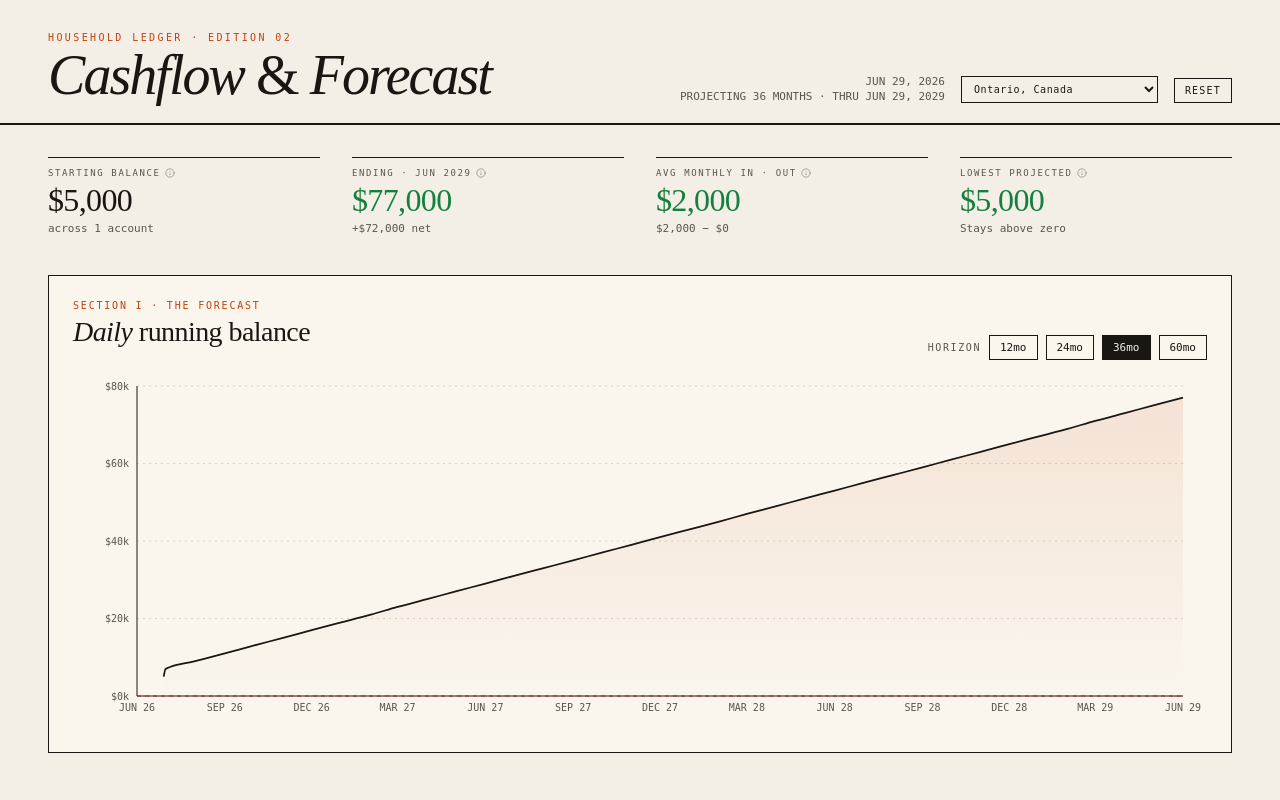
Test: Interactive Tooltips UI › displays explanations when hovering over metric labels
// Hover to reveal tooltip
Hover over the text "Starting Balance".
mouse_move(111, 173)  # box [48,168,175,178]
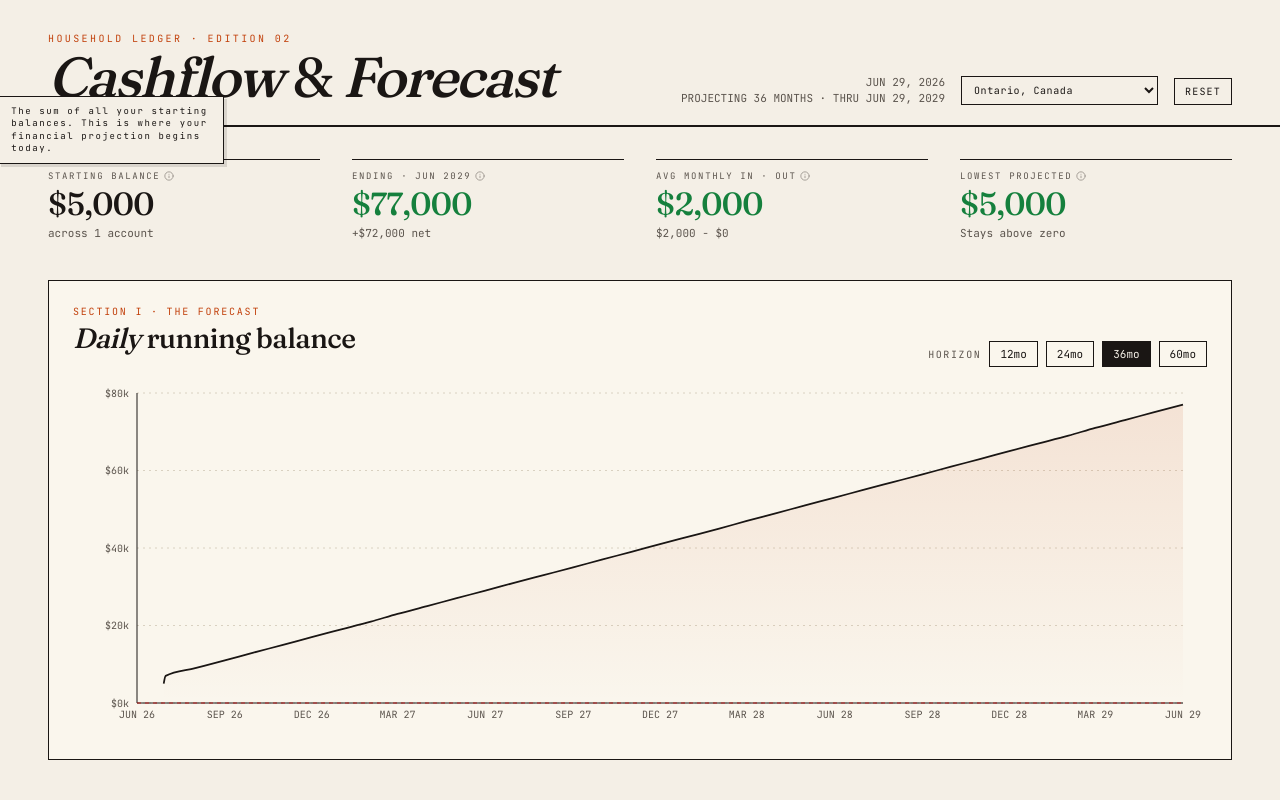
Expected: the text "The sum of all your starting balances" is shown, [11,105,208,154]
// Mouse leave hides it
Move the pointer off the text "Starting Balance", box [48,170,174,182]
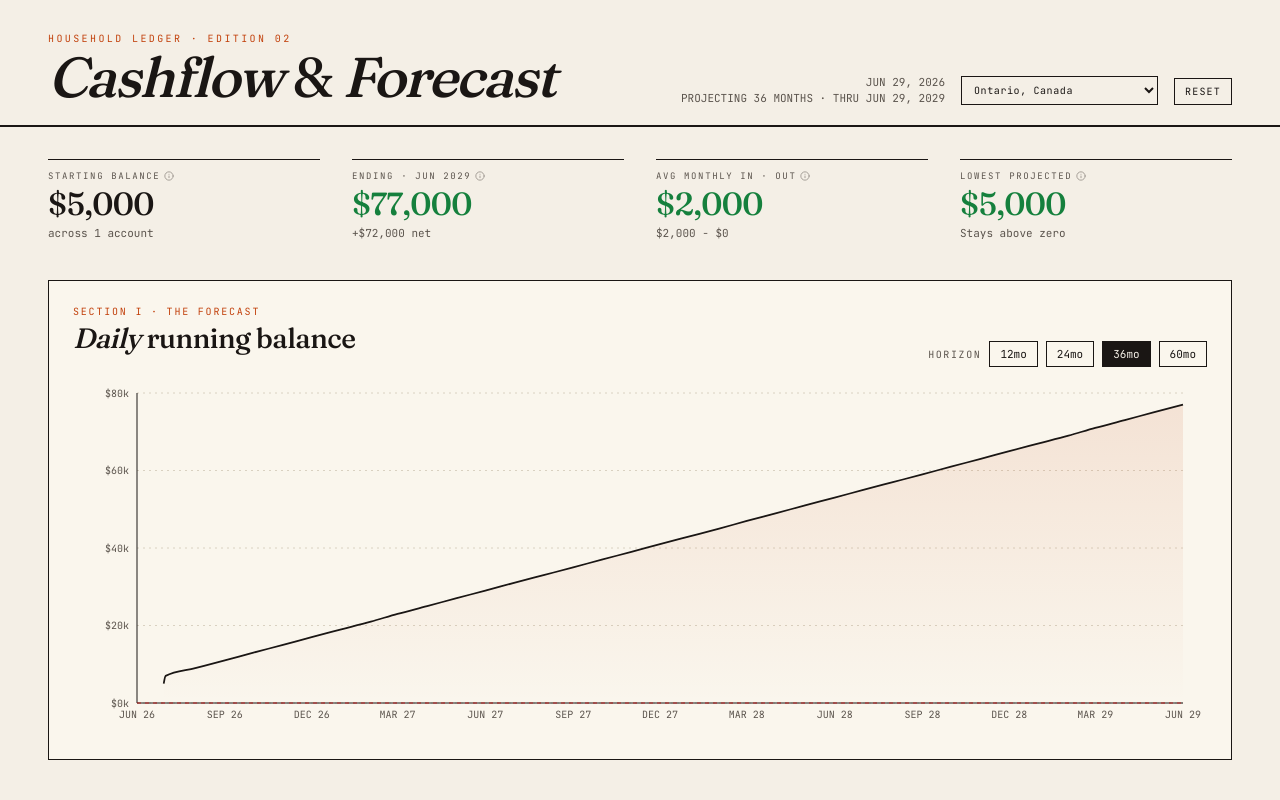
Expected: the text "The sum of all your starting balances" is gone
